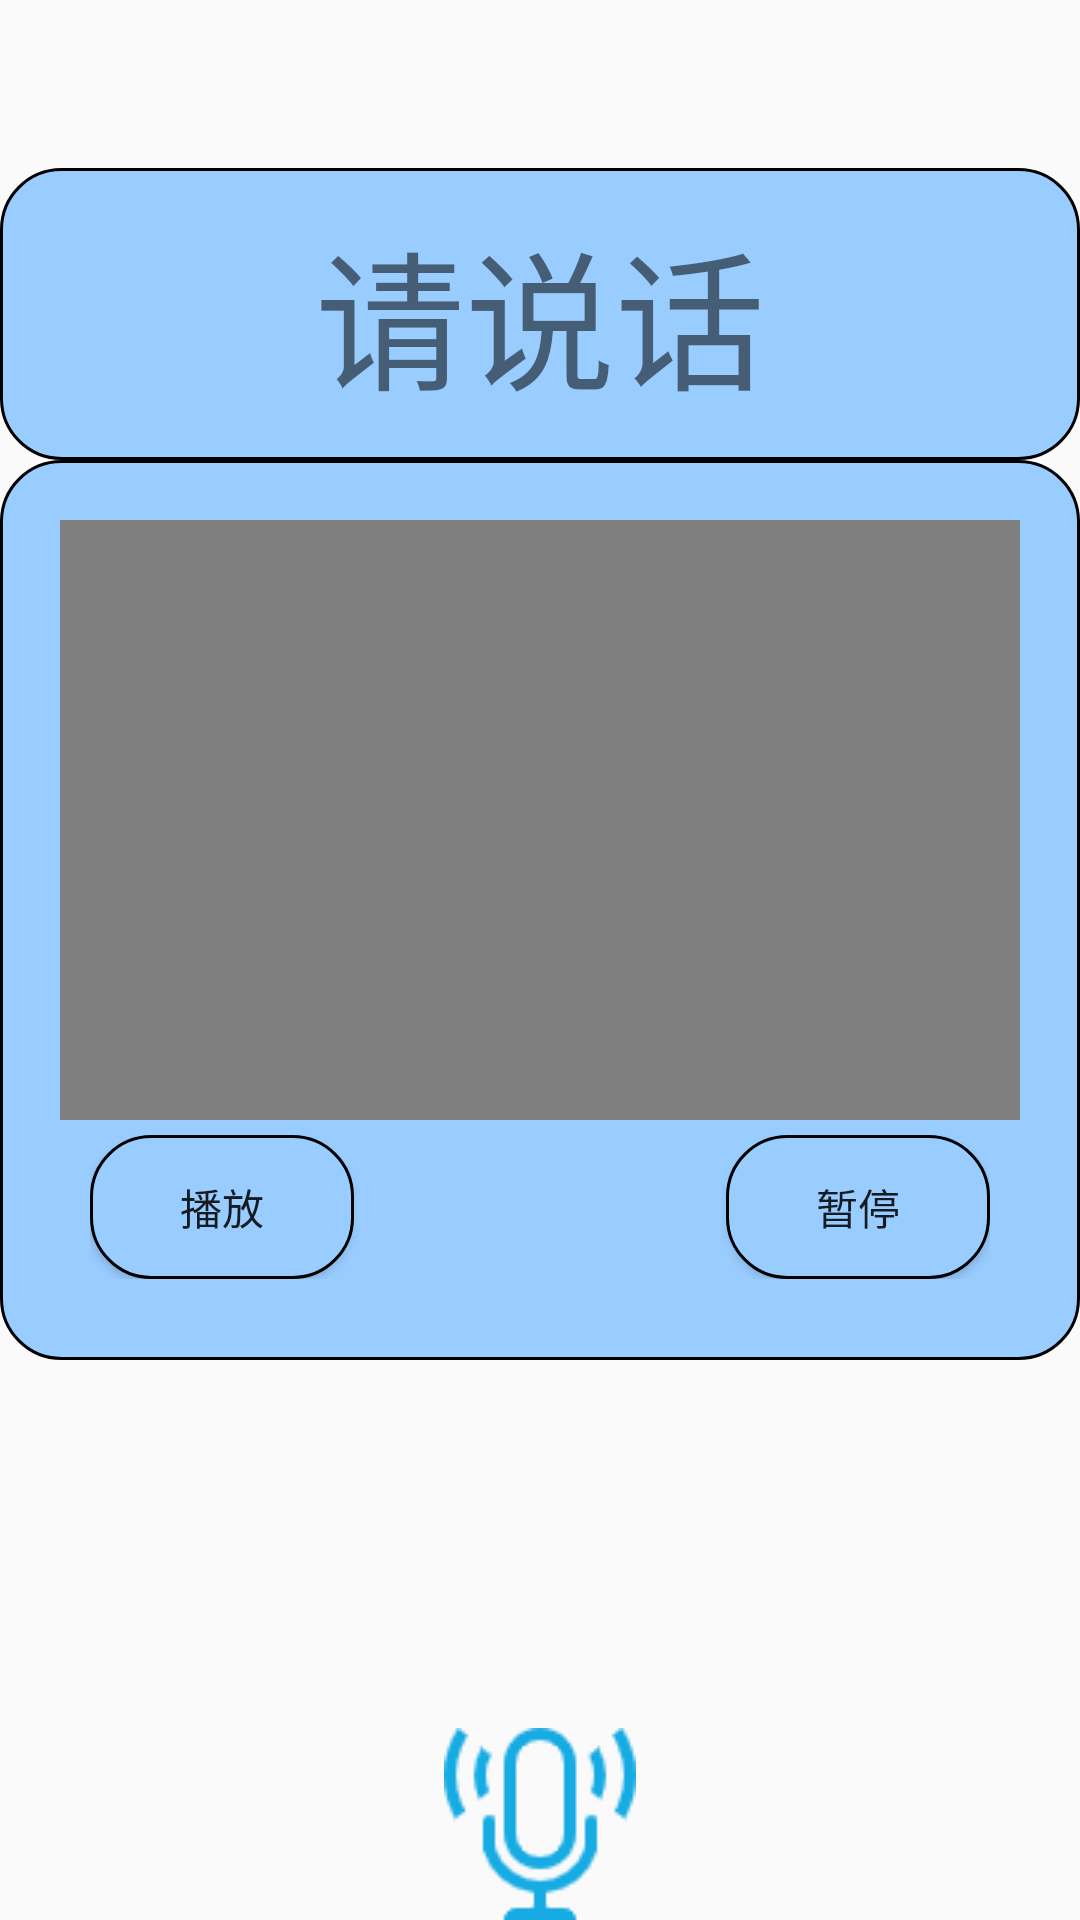

Icon click points for this 1080x1920 phone screenshot, format (x=x, y=y):
microphone: (x=540, y=1824)
